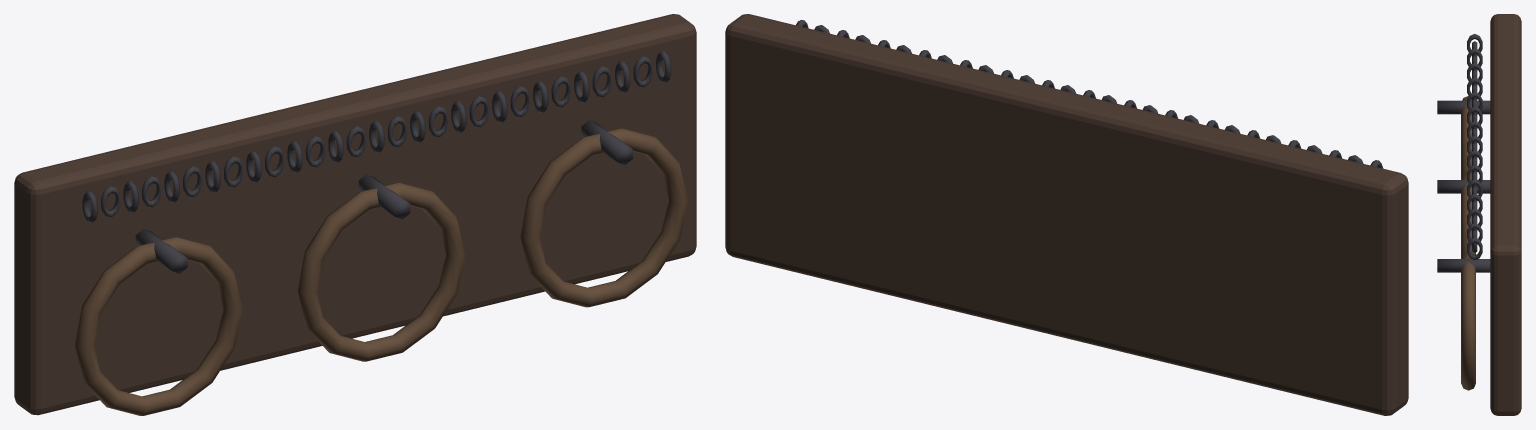
File: wall_gear_whip_rack.glb
3 renders of one model, left to right at view 1: azimuth 30°, elevation 25°; view 2: azimuth 150°, elevation 25°; view 3: azimuth 270°, elevation 25°, orthographic. The views are drawn at different scales.
Parts seen in each view (by area): view 1: GD_wall_gear_whip_rack__m0, GD_wall_gear_whip_rack__m1, GD_wall_gear_whip_rack__m2; view 2: GD_wall_gear_whip_rack__m0, GD_wall_gear_whip_rack__m2; view 3: GD_wall_gear_whip_rack__m0, GD_wall_gear_whip_rack__m2, GD_wall_gear_whip_rack__m1.
Boxes of the visible parts, left/top/right/bottom form: GD_wall_gear_whip_rack__m0: left=14, top=14, right=696, bottom=415; GD_wall_gear_whip_rack__m1: left=74, top=128, right=687, bottom=415; GD_wall_gear_whip_rack__m2: left=82, top=51, right=671, bottom=273; GD_wall_gear_whip_rack__m0: left=725, top=14, right=1408, bottom=415; GD_wall_gear_whip_rack__m2: left=796, top=20, right=1383, bottom=168; GD_wall_gear_whip_rack__m0: left=1490, top=14, right=1521, bottom=415; GD_wall_gear_whip_rack__m2: left=1437, top=34, right=1490, bottom=272; GD_wall_gear_whip_rack__m1: left=1461, top=96, right=1475, bottom=390.
Size of the model in its own units: 0.9 by 0.3092 by 0.135.
